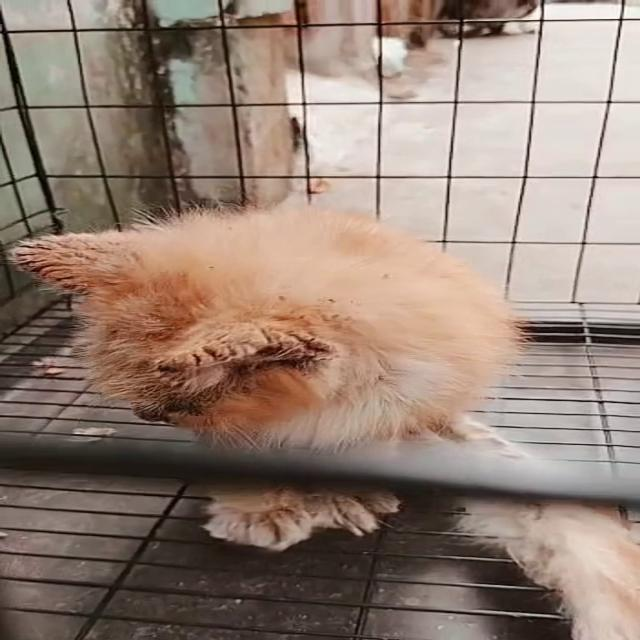ghe: (132, 301, 362, 405)
